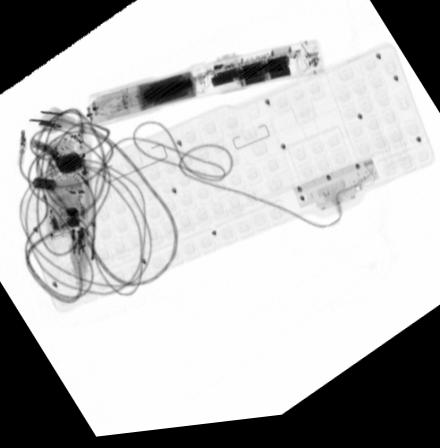Baton: (79, 45, 325, 132)
